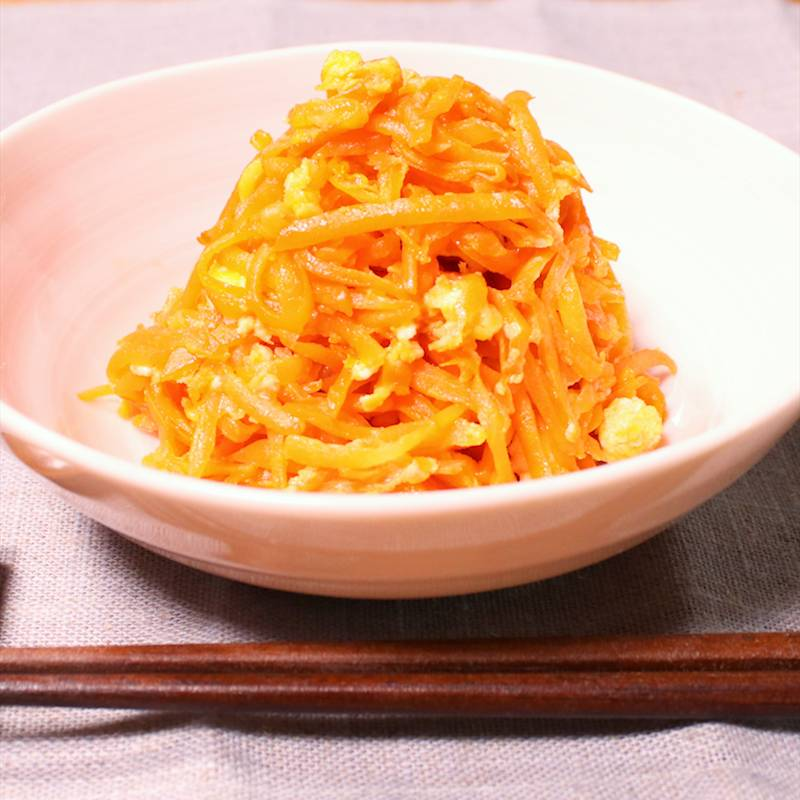carrot_eggs: (123, 51, 680, 505), (168, 299, 627, 487), (229, 114, 570, 314)
